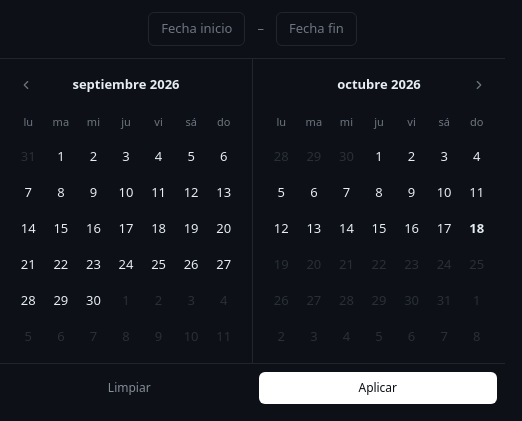
Test: DateRangePicker › seleccionar un día lo marca como inicio
Click the button "15" below "septiembre".
click(61, 228)  # box 45,210 -> 77,246
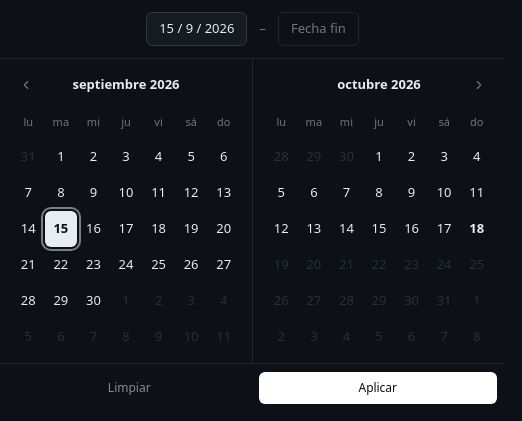
Expected: the text "Fecha inicio" is gone
